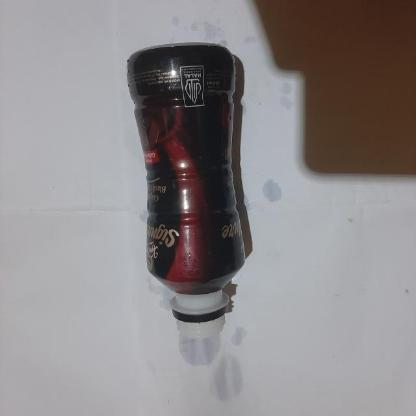Plastic Bottle: (112, 41, 262, 353)
